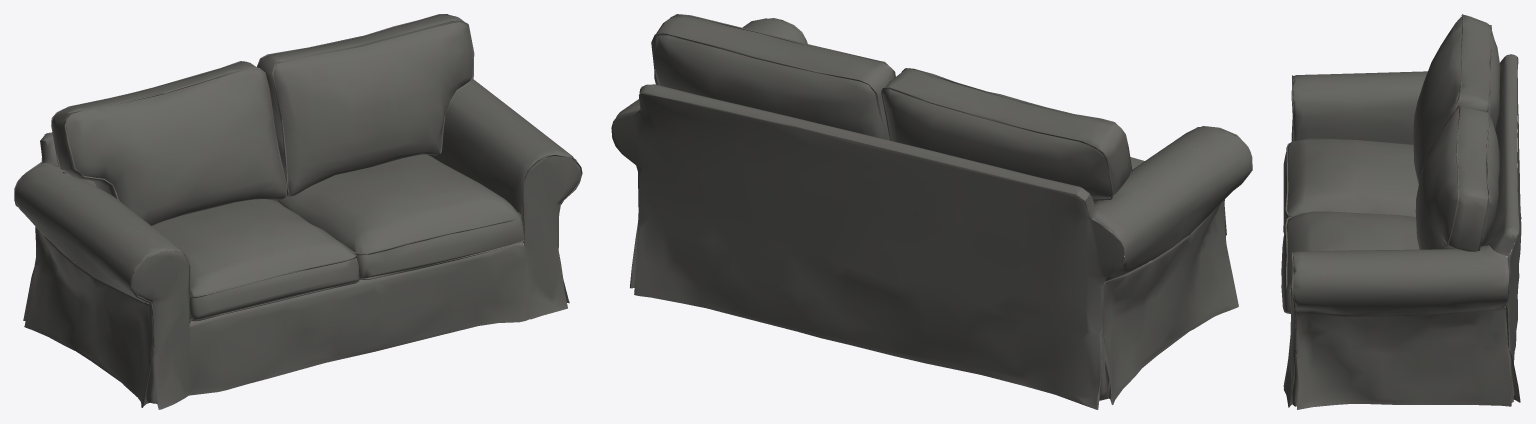
Rendered from cover-hakebo-ciemnoszary.glb.
3 views of the same model, side by side, from view 1: azimuth 30°, elevation 25°; view 2: azimuth 150°, elevation 25°; view 3: azimuth 270°, elevation 25° (orthographic). The views are drawn at different scales.
Parts seen in each view (by area): view 1: Mesh_0; view 2: Mesh_0; view 3: Mesh_0.
Boxes of the visible parts, <box> form: Mesh_0: <box>14,14,582,409</box>; Mesh_0: <box>611,14,1252,409</box>; Mesh_0: <box>1281,14,1521,409</box>.
Bounding box in the file's own units: 1.79 × 0.88 × 0.88.
2 materials, 2 textured.
